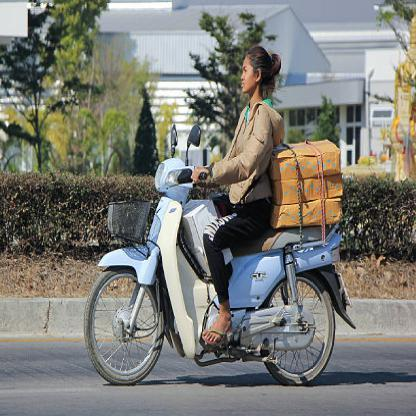Motorcycle: (76, 134, 351, 388)
